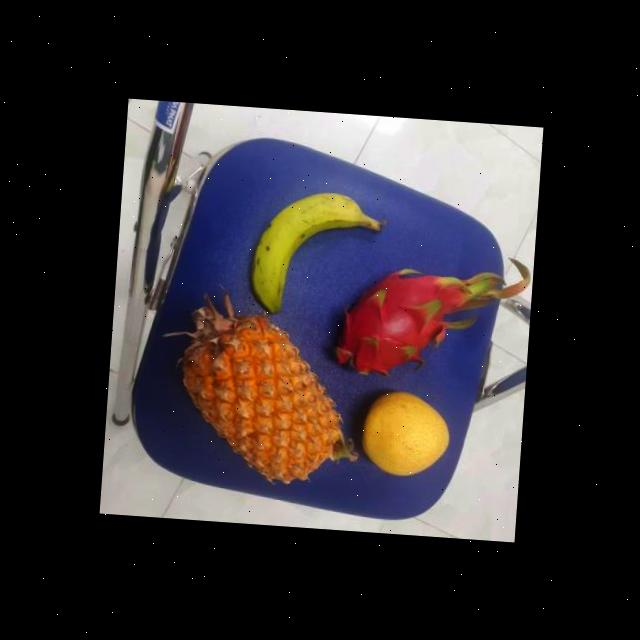banana: (248, 185, 380, 318)
pear: (356, 383, 450, 481)
pineapple: (177, 300, 350, 474)
pitaya: (329, 261, 459, 382)
